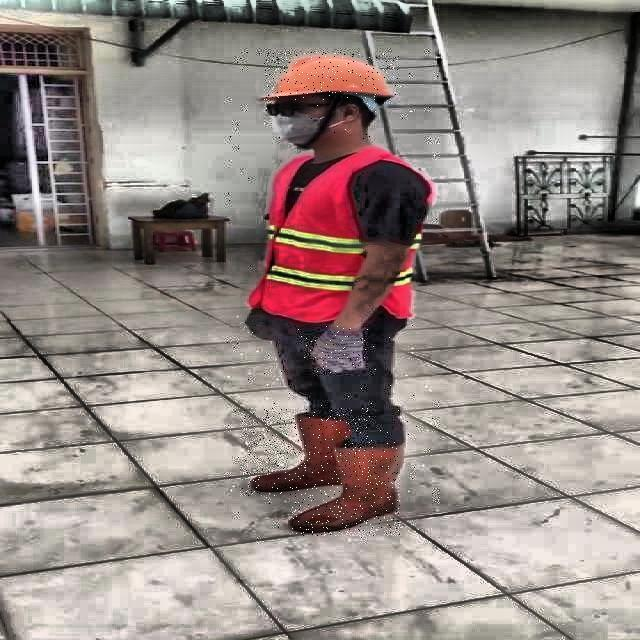safety_helmet: (264, 52, 398, 100)
safety_jacket: (252, 144, 434, 319)
